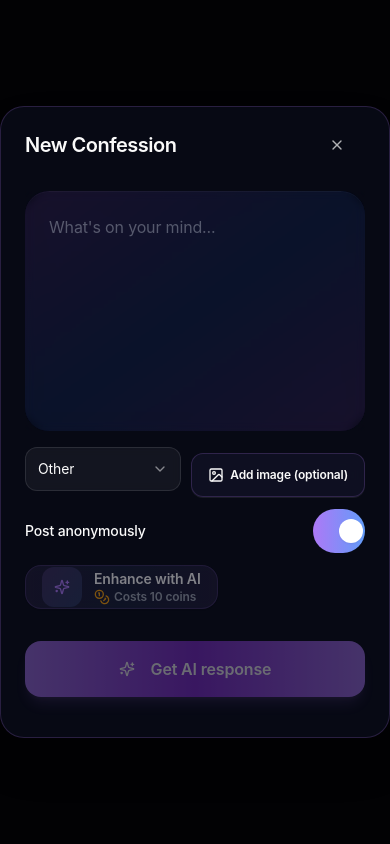
Scenario: Anonymity Control › shows preview when toggle is OFF
Click to turn OFF anonymous mode
Click the switch: click(339, 531) [313, 509, 365, 553]
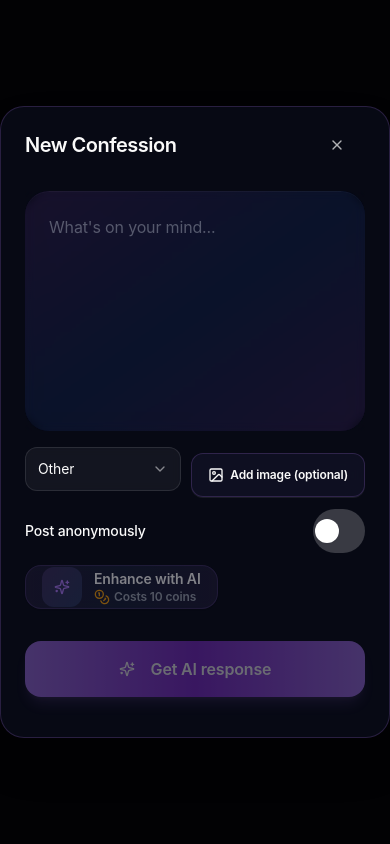
Check: the switch is not checked, box [313, 509, 365, 553]
